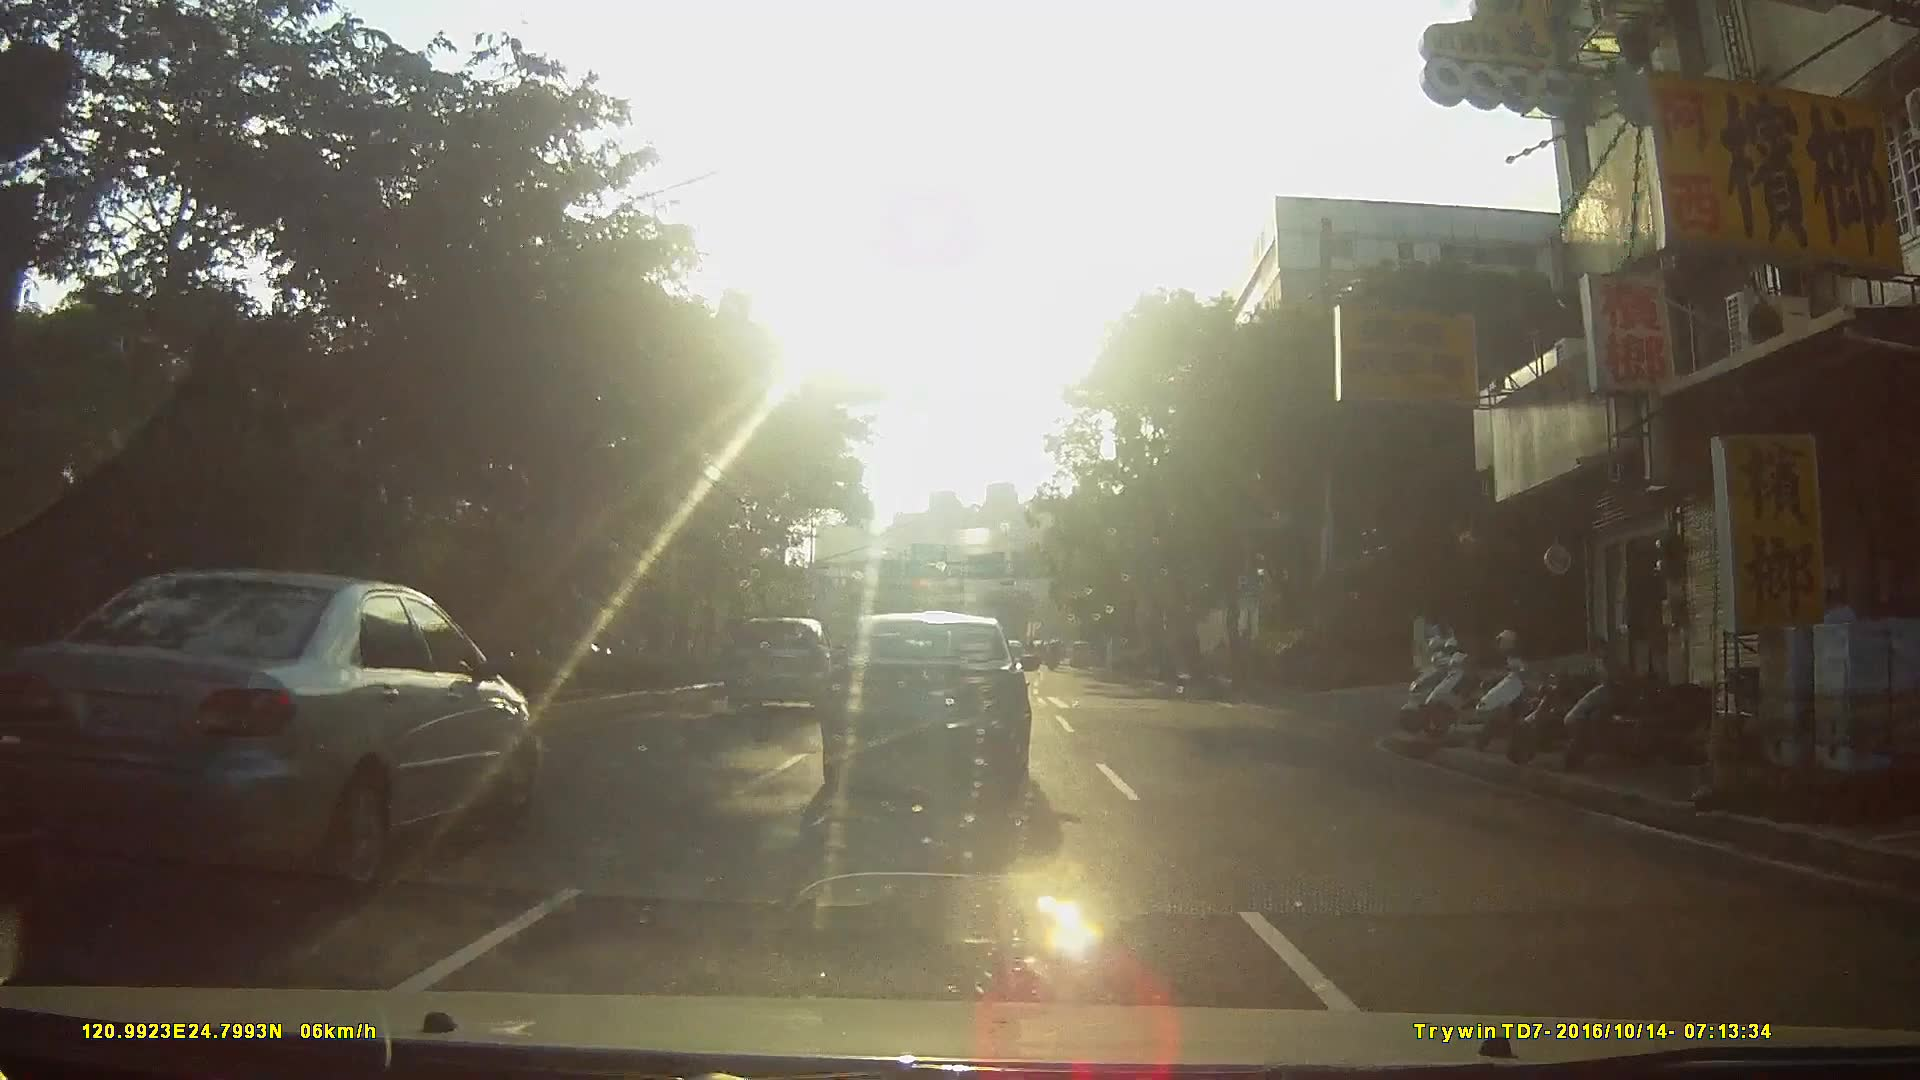vehicle: (5, 568, 556, 894), (827, 611, 1052, 804), (728, 615, 841, 709), (1067, 637, 1101, 666)
